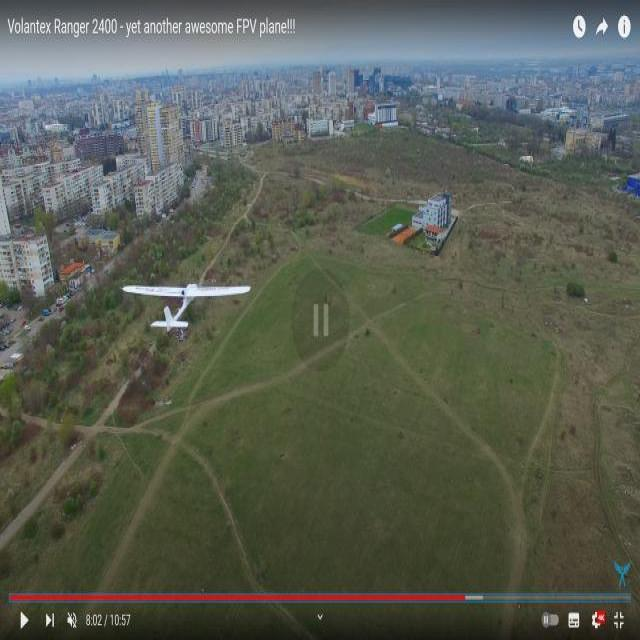iha: (122, 297, 253, 318)
